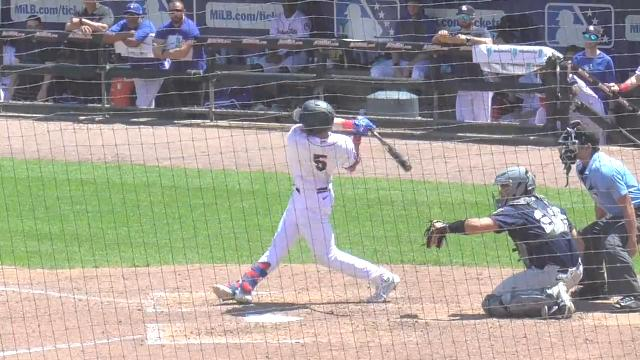bat: (371, 128, 413, 172)
